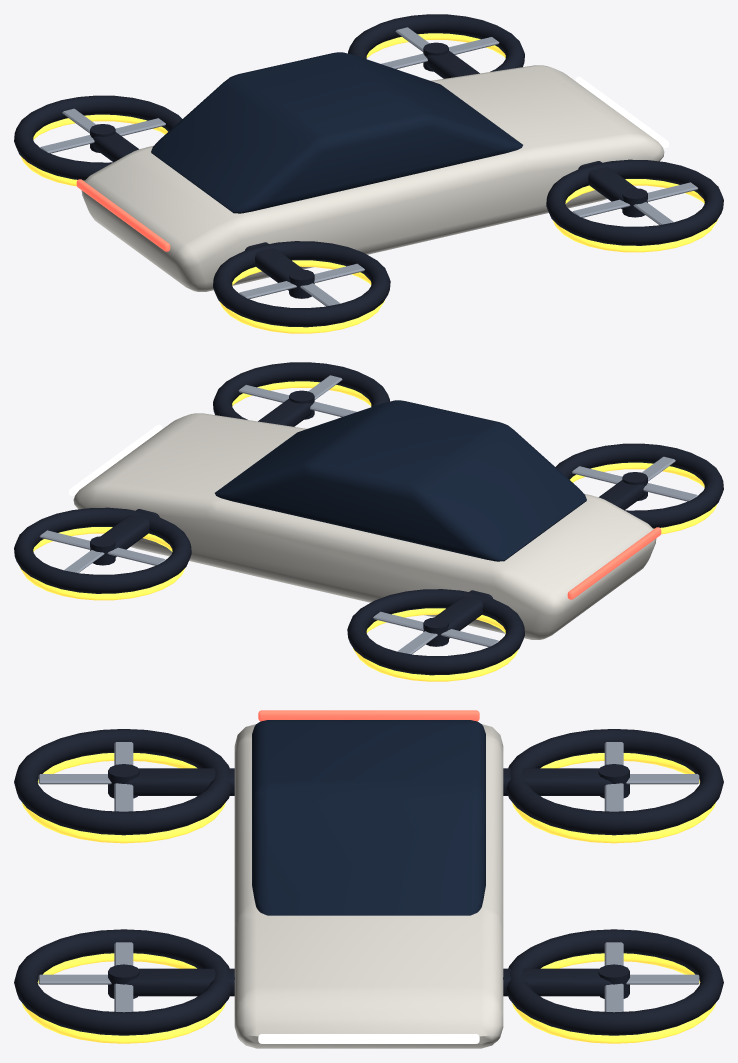
The model's file is skycar.glb.
The picture shows the model from 3 angles, top to bottom: view 1: azimuth 30°, elevation 25°; view 2: azimuth 150°, elevation 25°; view 3: azimuth 270°, elevation 25°; orthographic projection. The views are drawn at different scales.
Parts seen in each view (by area): view 1: skycar, rotor_3, rotor_1, rotor_2, rotor_0; view 2: skycar, rotor_2, rotor_0, rotor_3, rotor_1; view 3: skycar, rotor_2, rotor_3, rotor_0, rotor_1.
Part boxes in pixels (x1,y1,x2,y2): skycar: (14, 14, 723, 333); rotor_3: (239, 263, 364, 306); rotor_1: (572, 182, 698, 224); rotor_2: (40, 108, 165, 153); rotor_0: (381, 27, 499, 69); skycar: (14, 362, 723, 681); rotor_2: (373, 611, 498, 654); rotor_0: (39, 530, 165, 572); rotor_3: (572, 456, 697, 501); rotor_1: (238, 375, 356, 417); skycar: (14, 710, 723, 1048); rotor_2: (604, 742, 699, 811); rotor_3: (38, 742, 133, 811); rotor_0: (604, 942, 699, 1012); rotor_1: (38, 942, 133, 1012).
Size of the model in its own units: 4.54 by 1.13 by 4.49.
